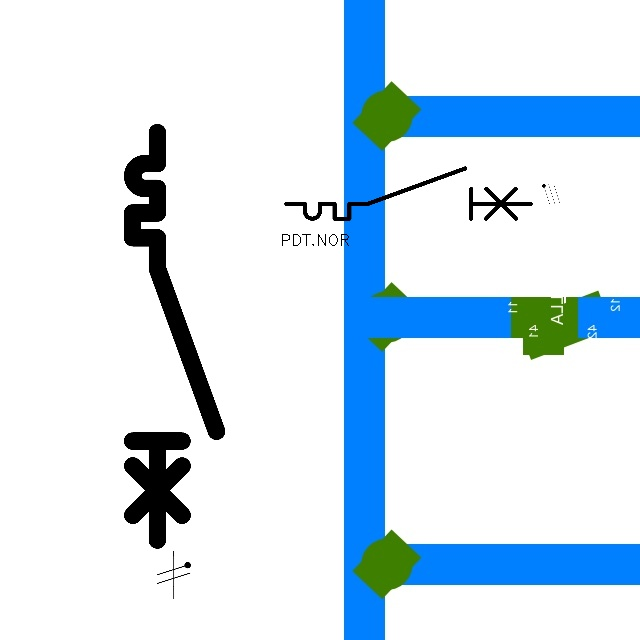interruptor_termomagnetico: (122, 122, 227, 550), (280, 162, 537, 225)
